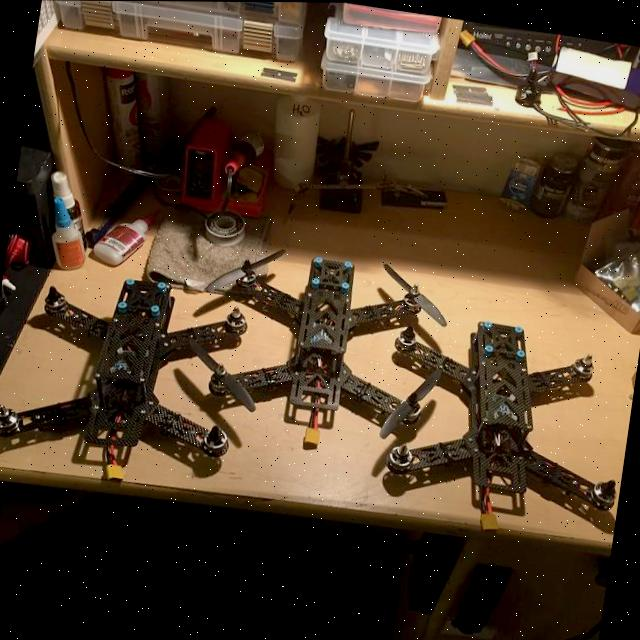drone: (182, 232, 462, 445), (372, 315, 640, 528), (0, 264, 257, 478)
